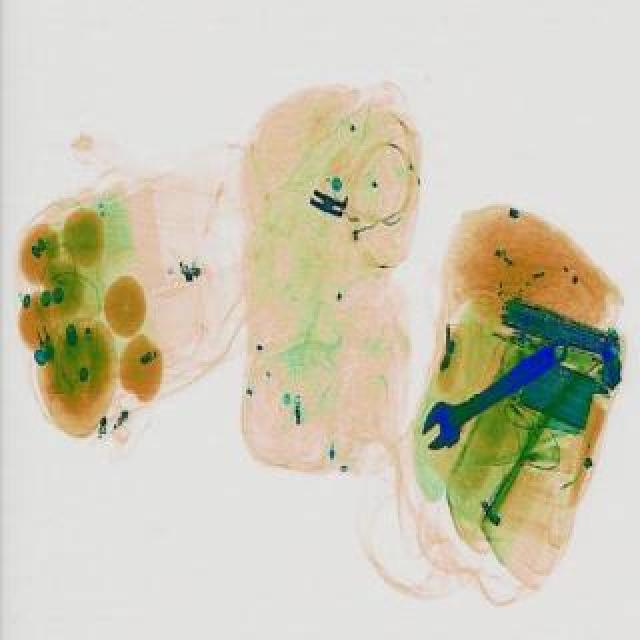scissors: (406, 322, 582, 454)
